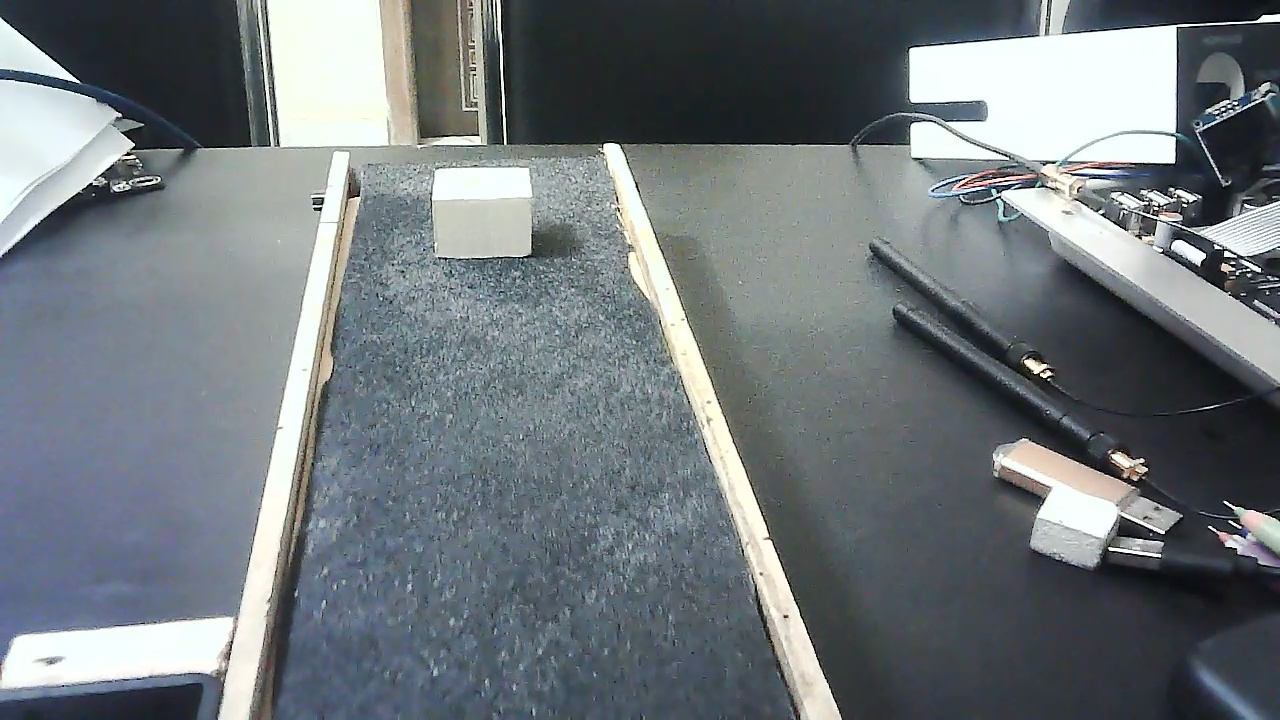Medium: (433, 163, 533, 263)
